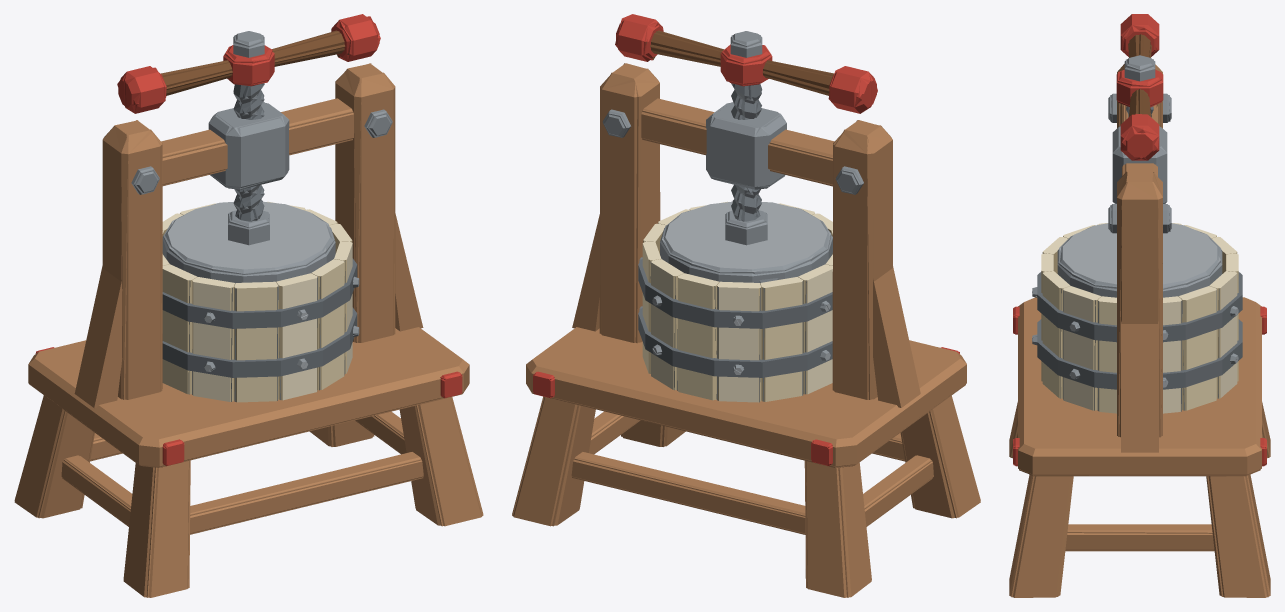
File: FMS_Workshop_STA_02.fbx
3 renders of one model, left to right at view 1: azimuth 30°, elevation 25°; view 2: azimuth 150°, elevation 25°; view 3: azimuth 270°, elevation 25°, orthographic. The views are drawn at different scales.
Visible parts, largest first — view 1: FMS_Workshop_STA_02_Frame, FMS_Workshop_STA_02_Mould, FMS_Workshop_STA_02_Frame_Low1, FMS_Workshop_STA_02_Plate, FMS_Workshop_STA_02_Screw, FMS_Workshop_STA_02_Screw_Low1, FMS_Workshop_STA_02_Mould_Low1, FMS_Workshop_STA_02_Plate_Low1; view 2: FMS_Workshop_STA_02_Frame, FMS_Workshop_STA_02_Mould, FMS_Workshop_STA_02_Frame_Low1, FMS_Workshop_STA_02_Plate, FMS_Workshop_STA_02_Screw, FMS_Workshop_STA_02_Screw_Low1, FMS_Workshop_STA_02_Mould_Low1, FMS_Workshop_STA_02_Plate_Low1; view 3: FMS_Workshop_STA_02_Frame, FMS_Workshop_STA_02_Mould, FMS_Workshop_STA_02_Frame_Low1, FMS_Workshop_STA_02_Plate, FMS_Workshop_STA_02_Screw, FMS_Workshop_STA_02_Mould_Low1, FMS_Workshop_STA_02_Screw_Low1, FMS_Workshop_STA_02_Plate_Low1.
Boxes of the visible parts, x1=… form: FMS_Workshop_STA_02_Frame: x1=14, y1=63, x2=483, y2=597; FMS_Workshop_STA_02_Mould: x1=162, y1=201, x2=359, y2=402; FMS_Workshop_STA_02_Frame_Low1: x1=14, y1=64, x2=483, y2=597; FMS_Workshop_STA_02_Plate: x1=162, y1=201, x2=335, y2=283; FMS_Workshop_STA_02_Screw: x1=118, y1=14, x2=379, y2=221; FMS_Workshop_STA_02_Screw_Low1: x1=117, y1=16, x2=380, y2=220; FMS_Workshop_STA_02_Mould_Low1: x1=162, y1=209, x2=358, y2=401; FMS_Workshop_STA_02_Plate_Low1: x1=163, y1=202, x2=334, y2=274; FMS_Workshop_STA_02_Frame: x1=512, y1=63, x2=980, y2=597; FMS_Workshop_STA_02_Mould: x1=638, y1=201, x2=832, y2=402; FMS_Workshop_STA_02_Frame_Low1: x1=512, y1=64, x2=980, y2=597; FMS_Workshop_STA_02_Plate: x1=660, y1=201, x2=832, y2=282; FMS_Workshop_STA_02_Screw: x1=616, y1=14, x2=876, y2=221; FMS_Workshop_STA_02_Screw_Low1: x1=615, y1=14, x2=877, y2=220; FMS_Workshop_STA_02_Mould_Low1: x1=641, y1=203, x2=832, y2=402; FMS_Workshop_STA_02_Plate_Low1: x1=661, y1=207, x2=831, y2=283; FMS_Workshop_STA_02_Frame: x1=1009, y1=64, x2=1270, y2=597; FMS_Workshop_STA_02_Mould: x1=1032, y1=223, x2=1242, y2=413; FMS_Workshop_STA_02_Frame_Low1: x1=1010, y1=64, x2=1269, y2=597; FMS_Workshop_STA_02_Plate: x1=1057, y1=223, x2=1222, y2=297; FMS_Workshop_STA_02_Screw: x1=1116, y1=14, x2=1163, y2=160; FMS_Workshop_STA_02_Mould_Low1: x1=1032, y1=224, x2=1241, y2=411; FMS_Workshop_STA_02_Screw_Low1: x1=1118, y1=15, x2=1161, y2=160; FMS_Workshop_STA_02_Plate_Low1: x1=1058, y1=225, x2=1221, y2=289.
Bounding box in the file's own units: 0.9033 × 1.2 × 0.6213.
